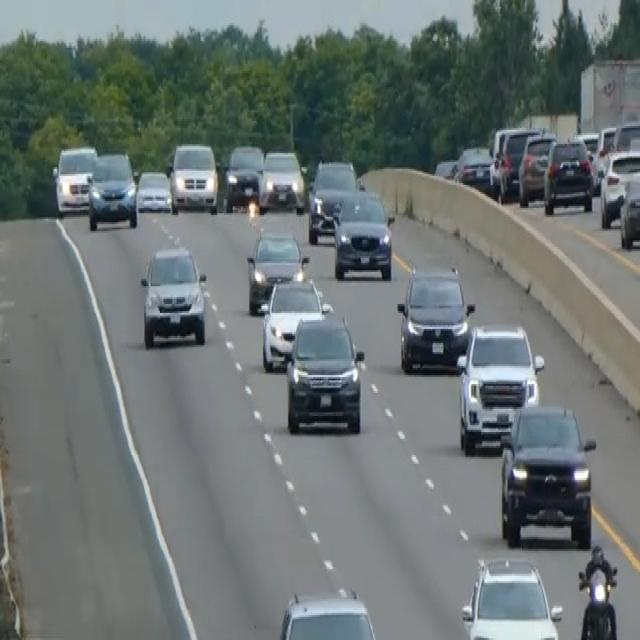car: (455, 320, 544, 453), (396, 262, 474, 374), (460, 555, 563, 638), (139, 244, 207, 348), (260, 274, 329, 372), (331, 187, 393, 281), (276, 585, 380, 638), (245, 226, 308, 313), (307, 156, 358, 244), (87, 148, 138, 231), (542, 135, 594, 213), (490, 123, 541, 199), (169, 140, 219, 213), (52, 142, 97, 215), (599, 146, 639, 228), (258, 148, 305, 214), (517, 130, 556, 206), (223, 142, 263, 210), (455, 142, 494, 190), (136, 167, 172, 213), (619, 169, 639, 249), (612, 117, 639, 153)
jeep: (498, 400, 596, 549), (283, 310, 366, 438)
motorcycle: (575, 560, 619, 638)
